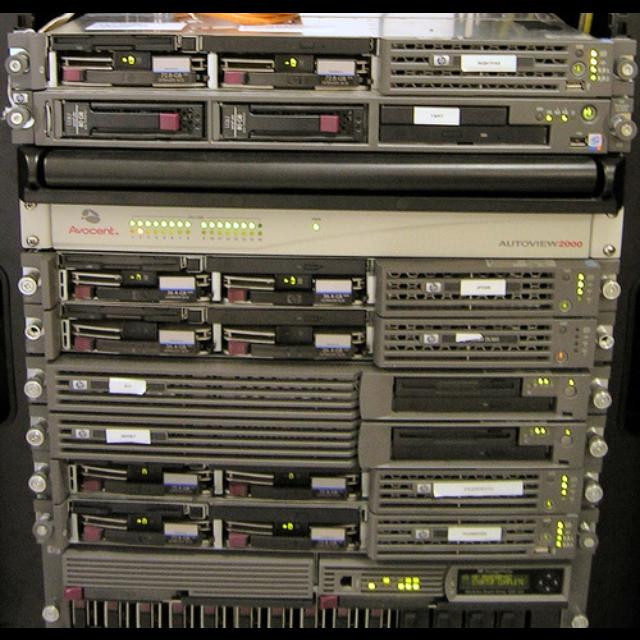Server: (7, 12, 617, 590)
